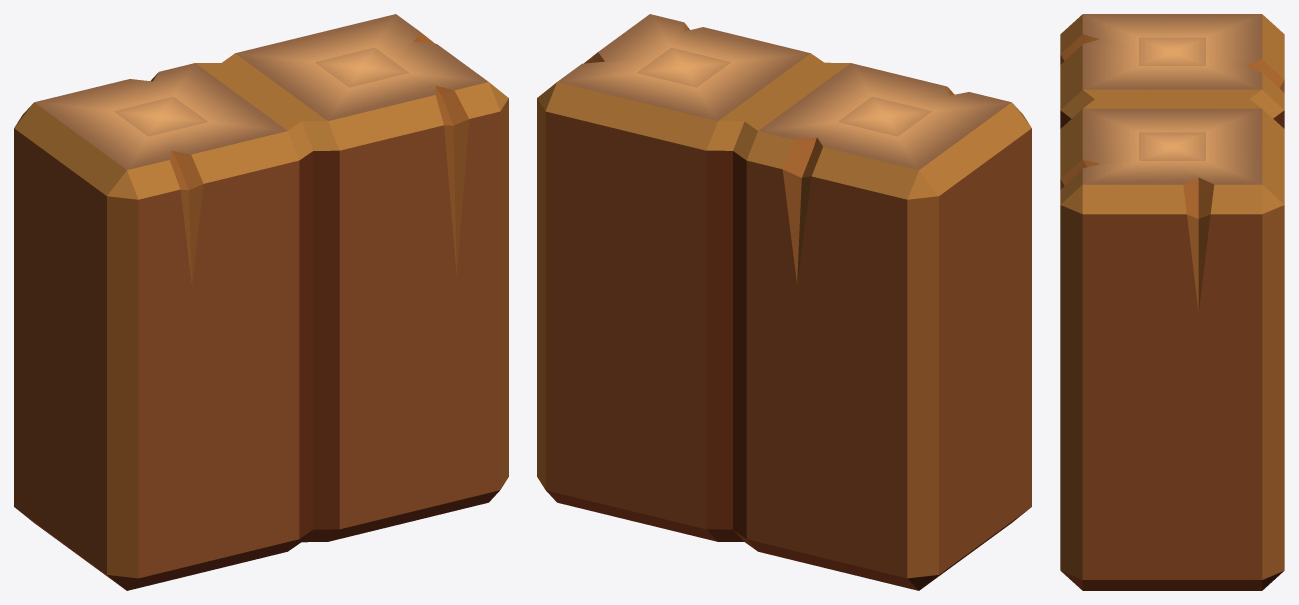
File: m_kub_wood_halfBig.FBX
3 views of the same model, side by side, from view 1: azimuth 30°, elevation 25°; view 2: azimuth 150°, elevation 25°; view 3: azimuth 270°, elevation 25° (orthographic). The views are drawn at different scales.
Visible parts, largest first — view 1: m_kub_wood_halfBig; view 2: m_kub_wood_halfBig; view 3: m_kub_wood_halfBig.
Boxes of the visible parts, x1,y1,x2,y2 form: m_kub_wood_halfBig: [14, 14, 508, 590]; m_kub_wood_halfBig: [537, 14, 1031, 590]; m_kub_wood_halfBig: [1060, 14, 1284, 590].
Size of the model in its own units: 2 by 2 by 1.
